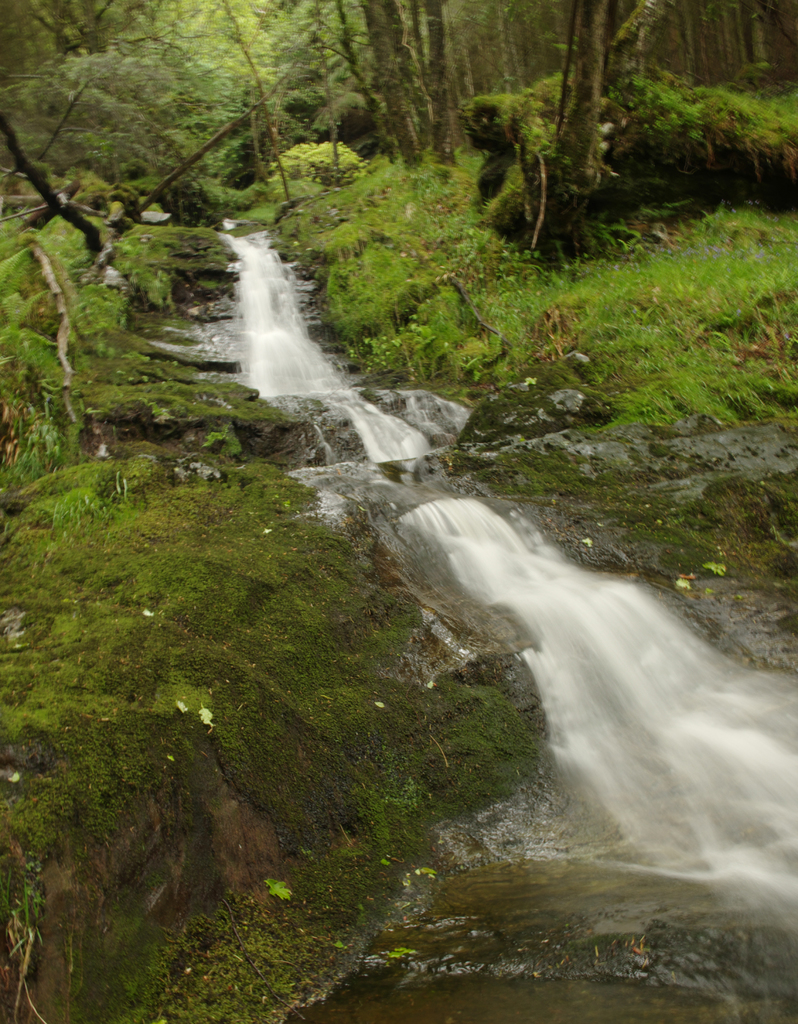Tree: (0, 0, 798, 429)
